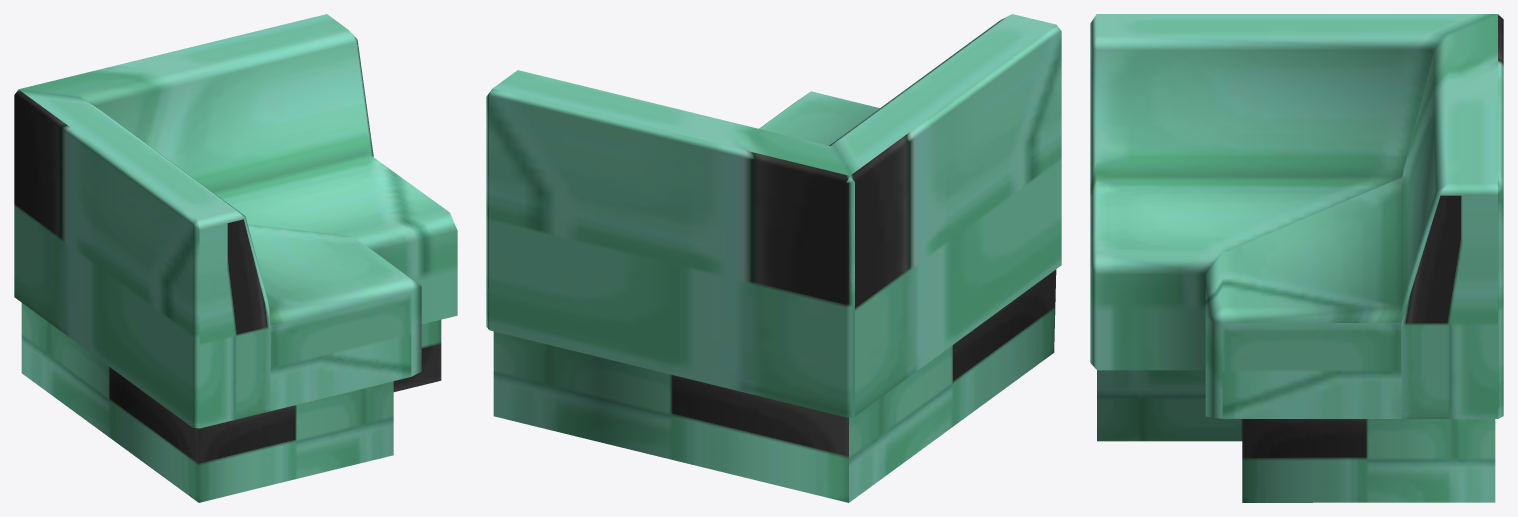
File: rmk_oth_LchairS02.dae
3 renders of one model, left to right at view 1: azimuth 30°, elevation 25°; view 2: azimuth 150°, elevation 25°; view 3: azimuth 270°, elevation 25°, orthographic. The views are drawn at different scales.
Parts seen in each view (by area): view 1: rmk_oth_LchairS02; view 2: rmk_oth_LchairS02; view 3: rmk_oth_LchairS02.
Boxes of the visible parts, x1,y1,x2,y2 form: rmk_oth_LchairS02: [14, 14, 457, 502]; rmk_oth_LchairS02: [486, 14, 1061, 502]; rmk_oth_LchairS02: [1090, 14, 1503, 502].
Bounding box in the file's own units: 30.5 × 26 × 30.5.
1 material, 1 textured.
